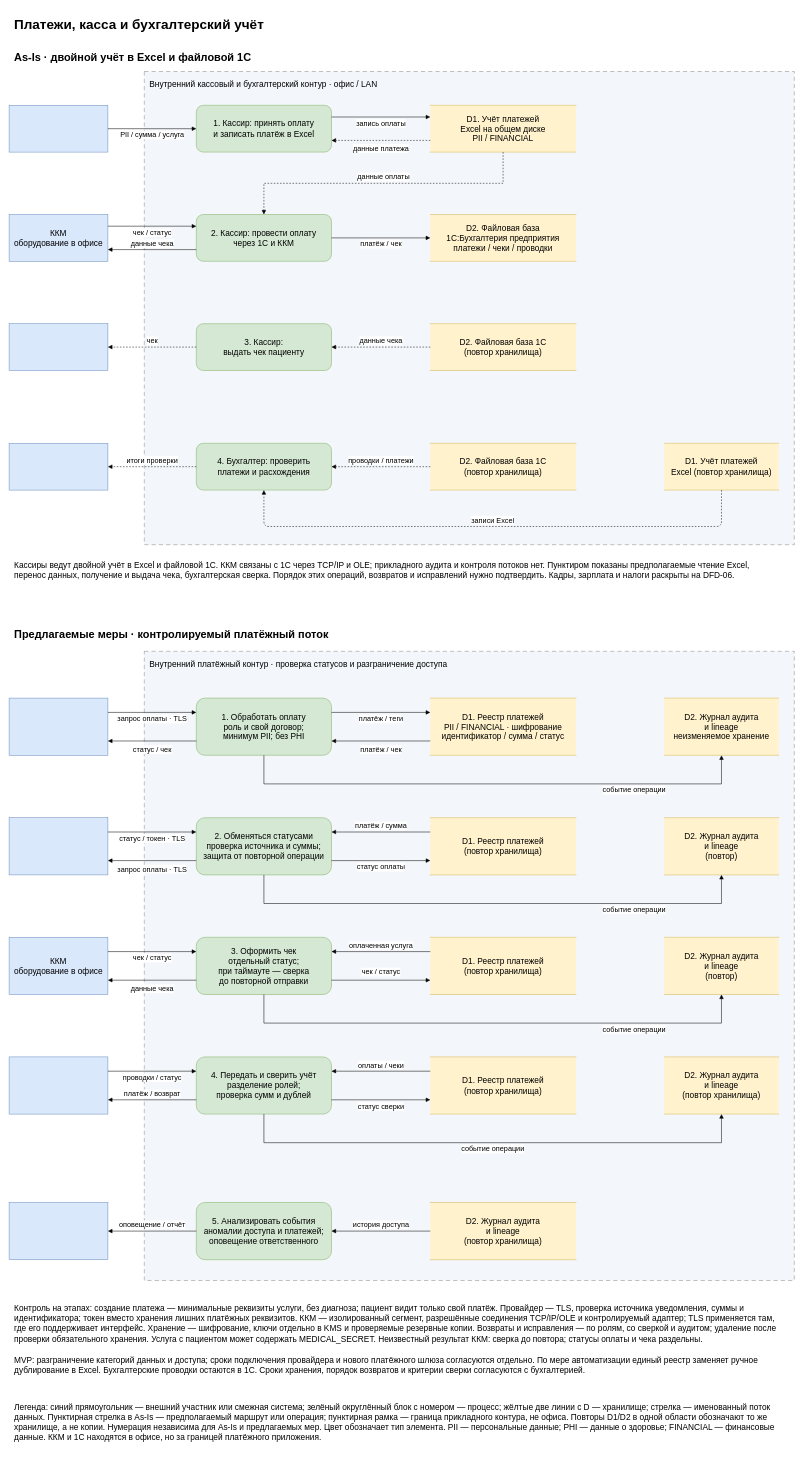
This 803x1468 diagram has some shape labels left out. Each missing label, with the centre of its shape:
1С:Бухгалтерия смежная система в офисе: pixel 58 1085
Бухгалтер: pixel 58 466
Ответственный за ИБ назначенная роль: pixel 58 1231
Пациент: pixel 58 128
Пациент (повтор участника): pixel 58 346
Пациент / кассир инициатор оплаты: pixel 58 726
Платёжный провайдер внешняя система: pixel 58 846
